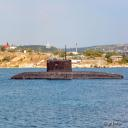submarine: (11, 61, 125, 80)
